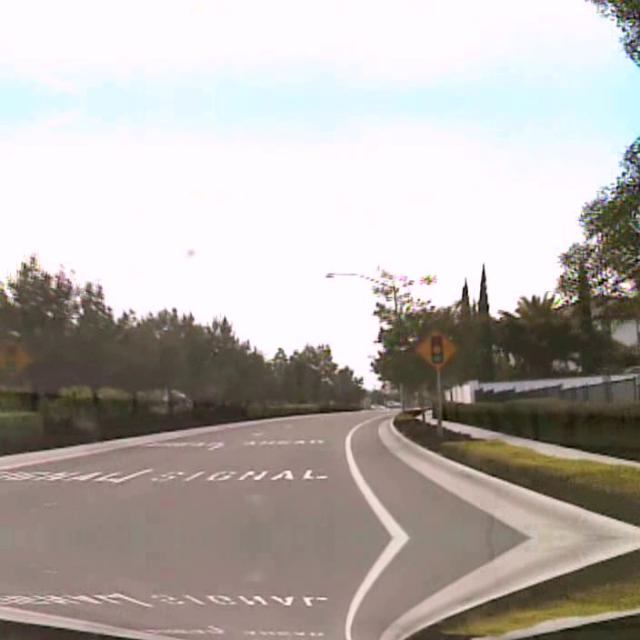signalAhead: (414, 326, 456, 366)
